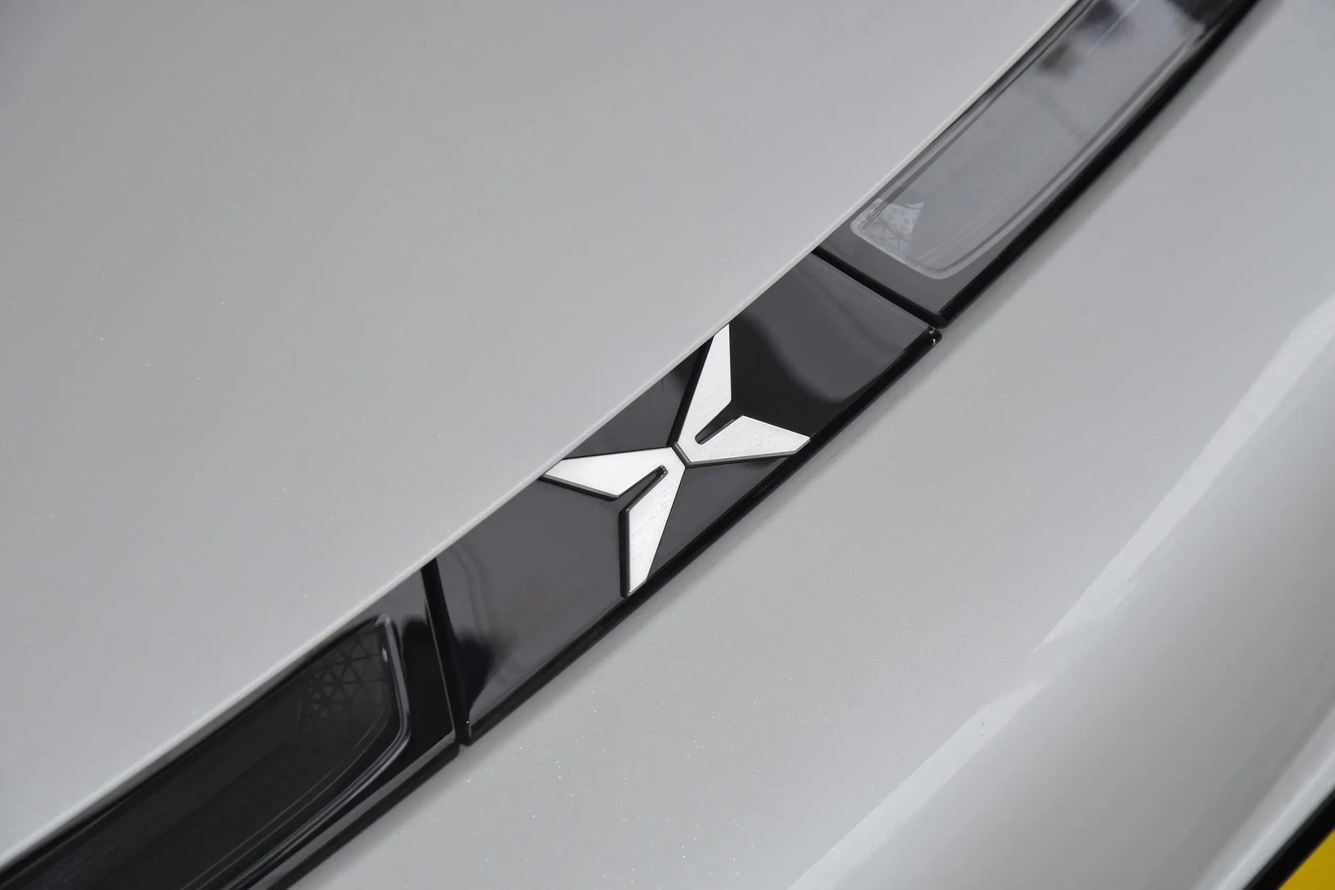XPeng Motors: (546, 324, 809, 597)
